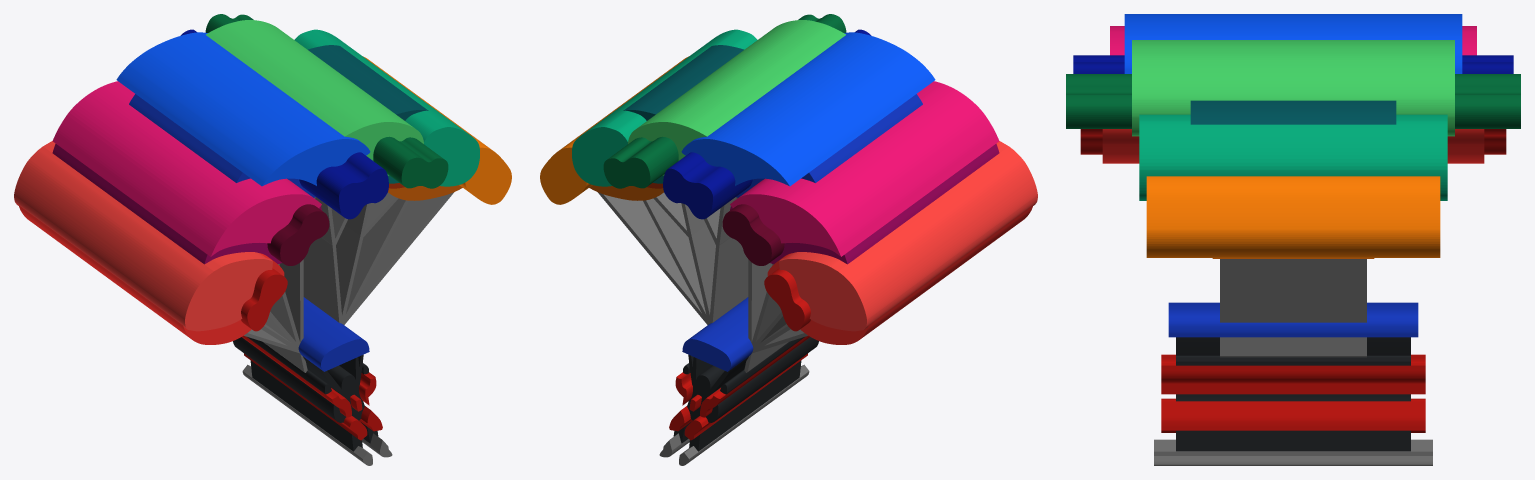
3 views of the same model, side by side, from view 1: azimuth 30°, elevation 25°; view 2: azimuth 150°, elevation 25°; view 3: azimuth 270°, elevation 25° (orthographic). The views are drawn at different scales.
Parts seen in each view (by area): view 1: U+1FA82_layer15_obj00, U+1FA82_layer13_obj00, U+1FA82_layer17_obj00, U+1FA82_layer12_obj00, U+1FA82_layer00_obj05, U+1FA82_layer00_obj01, U+1FA82_layer11_obj00, U+1FA82_layer20_obj00, U+1FA82_layer21_obj00, U+1FA82_layer06_obj02, U+1FA82_layer07_obj01, U+1FA82_layer04_obj01 (+16 smaller); view 2: U+1FA82_layer15_obj00, U+1FA82_layer13_obj00, U+1FA82_layer17_obj00, U+1FA82_layer12_obj00, U+1FA82_layer00_obj05, U+1FA82_layer00_obj01, U+1FA82_layer11_obj00, U+1FA82_layer20_obj00, U+1FA82_layer21_obj00, U+1FA82_layer06_obj02, U+1FA82_layer07_obj01, U+1FA82_layer04_obj01 (+16 smaller); view 3: U+1FA82_layer10_obj00, U+1FA82_layer12_obj00, U+1FA82_layer11_obj00, U+1FA82_layer00_obj05, U+1FA82_layer13_obj00, U+1FA82_layer08_obj00, U+1FA82_layer08_obj03, U+1FA82_layer21_obj00, U+1FA82_layer07_obj01, U+1FA82_layer04_obj01, U+1FA82_layer06_obj04, U+1FA82_layer09_obj01 (+7 smaller).
Part boxes in pixels (x1=…): U+1FA82_layer15_obj00: x1=52, y1=81, x2=321, y2=256; U+1FA82_layer13_obj00: x1=116, y1=32, x2=370, y2=186; U+1FA82_layer17_obj00: x1=14, y1=141, x2=272, y2=331; U+1FA82_layer12_obj00: x1=206, y1=20, x2=423, y2=175; U+1FA82_layer00_obj05: x1=341, y1=192, x2=453, y2=324; U+1FA82_layer00_obj01: x1=303, y1=203, x2=370, y2=323; U+1FA82_layer11_obj00: x1=294, y1=29, x2=479, y2=186; U+1FA82_layer20_obj00: x1=180, y1=29, x2=388, y2=219; U+1FA82_layer21_obj00: x1=205, y1=14, x2=448, y2=188; U+1FA82_layer06_obj02: x1=233, y1=337, x2=364, y2=422; U+1FA82_layer07_obj01: x1=298, y1=297, x2=369, y2=371; U+1FA82_layer04_obj01: x1=308, y1=45, x2=428, y2=120; U+1FA82_layer15_obj00: x1=730, y1=81, x2=999, y2=256; U+1FA82_layer13_obj00: x1=681, y1=32, x2=935, y2=186; U+1FA82_layer17_obj00: x1=779, y1=141, x2=1037, y2=331; U+1FA82_layer12_obj00: x1=628, y1=20, x2=845, y2=175; U+1FA82_layer00_obj05: x1=598, y1=192, x2=709, y2=324; U+1FA82_layer00_obj01: x1=681, y1=203, x2=748, y2=324; U+1FA82_layer11_obj00: x1=572, y1=29, x2=757, y2=186; U+1FA82_layer20_obj00: x1=663, y1=29, x2=871, y2=219; U+1FA82_layer21_obj00: x1=603, y1=14, x2=846, y2=188; U+1FA82_layer06_obj02: x1=687, y1=337, x2=818, y2=422; U+1FA82_layer07_obj01: x1=682, y1=297, x2=753, y2=371; U+1FA82_layer04_obj01: x1=623, y1=45, x2=743, y2=120; U+1FA82_layer10_obj00: x1=1146, y1=176, x2=1440, y2=257; U+1FA82_layer12_obj00: x1=1132, y1=40, x2=1454, y2=136; U+1FA82_layer11_obj00: x1=1139, y1=114, x2=1447, y2=200; U+1FA82_layer00_obj05: x1=1220, y1=259, x2=1366, y2=322; U+1FA82_layer13_obj00: x1=1124, y1=14, x2=1462, y2=73; U+1FA82_layer08_obj00: x1=1161, y1=401, x2=1425, y2=432; U+1FA82_layer08_obj03: x1=1161, y1=364, x2=1425, y2=394; U+1FA82_layer21_obj00: x1=1066, y1=74, x2=1520, y2=128; U+1FA82_layer07_obj01: x1=1168, y1=302, x2=1418, y2=337; U+1FA82_layer04_obj01: x1=1190, y1=100, x2=1396, y2=124; U+1FA82_layer06_obj04: x1=1176, y1=430, x2=1410, y2=451; U+1FA82_layer09_obj01: x1=1154, y1=439, x2=1432, y2=465.
Size of the model in its own units: 0.3183 by 0.3053 by 0.31.
